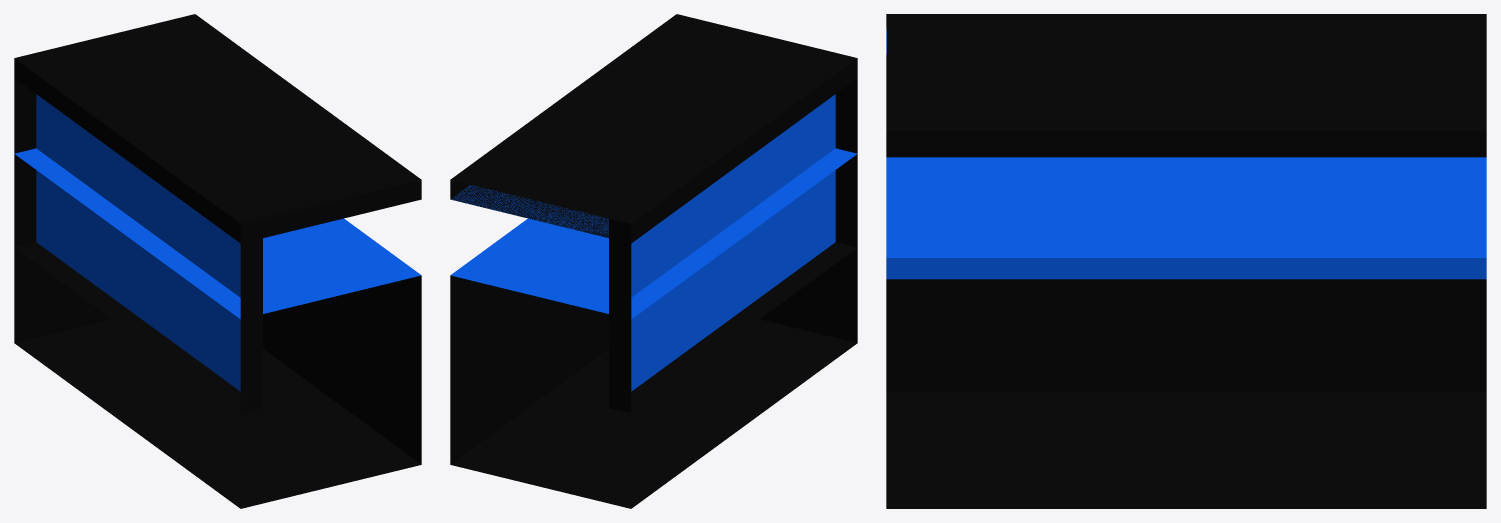
The model's file is magicMoney.fbx.
The picture shows the model from 3 angles, left to right: view 1: azimuth 30°, elevation 25°; view 2: azimuth 150°, elevation 25°; view 3: azimuth 270°, elevation 25°; orthographic projection. The views are drawn at different scales.
Visible parts, largest first — view 1: Cube; view 2: Cube; view 3: Cube.
Boxes of the visible parts, <box> form: Cube: <box>14,14,421,508</box>; Cube: <box>450,14,857,508</box>; Cube: <box>886,14,1486,508</box>.
Bounding box in the file's own units: 200 × 301 × 434.
